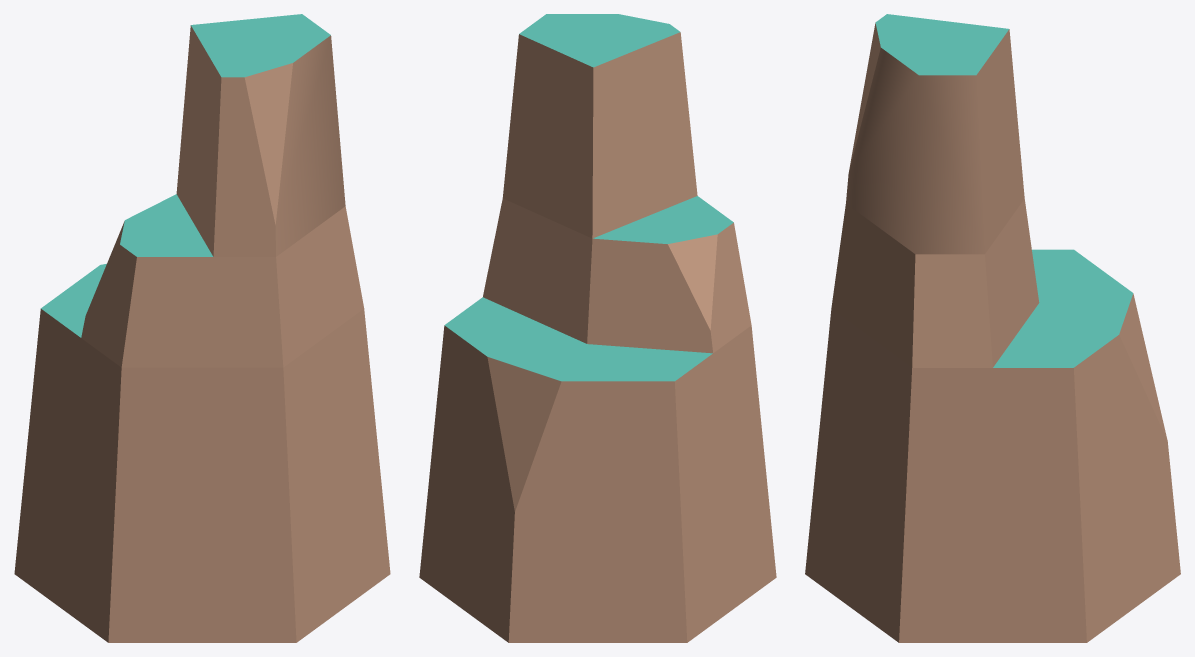
Rendered from rock_tallG.glb.
3 renders of one model, left to right at view 1: azimuth 30°, elevation 25°; view 2: azimuth 150°, elevation 25°; view 3: azimuth 270°, elevation 25°, orthographic. The views are drawn at different scales.
Visible parts, largest first — view 1: rock_tallG; view 2: rock_tallG; view 3: rock_tallG.
Boxes of the visible parts, left/top/right/bottom form: rock_tallG: left=14, top=14, right=390, bottom=642; rock_tallG: left=419, top=14, right=776, bottom=642; rock_tallG: left=805, top=14, right=1180, bottom=642.
Bounding box in the file's own units: 0.4249 × 0.7829 × 0.4907.
